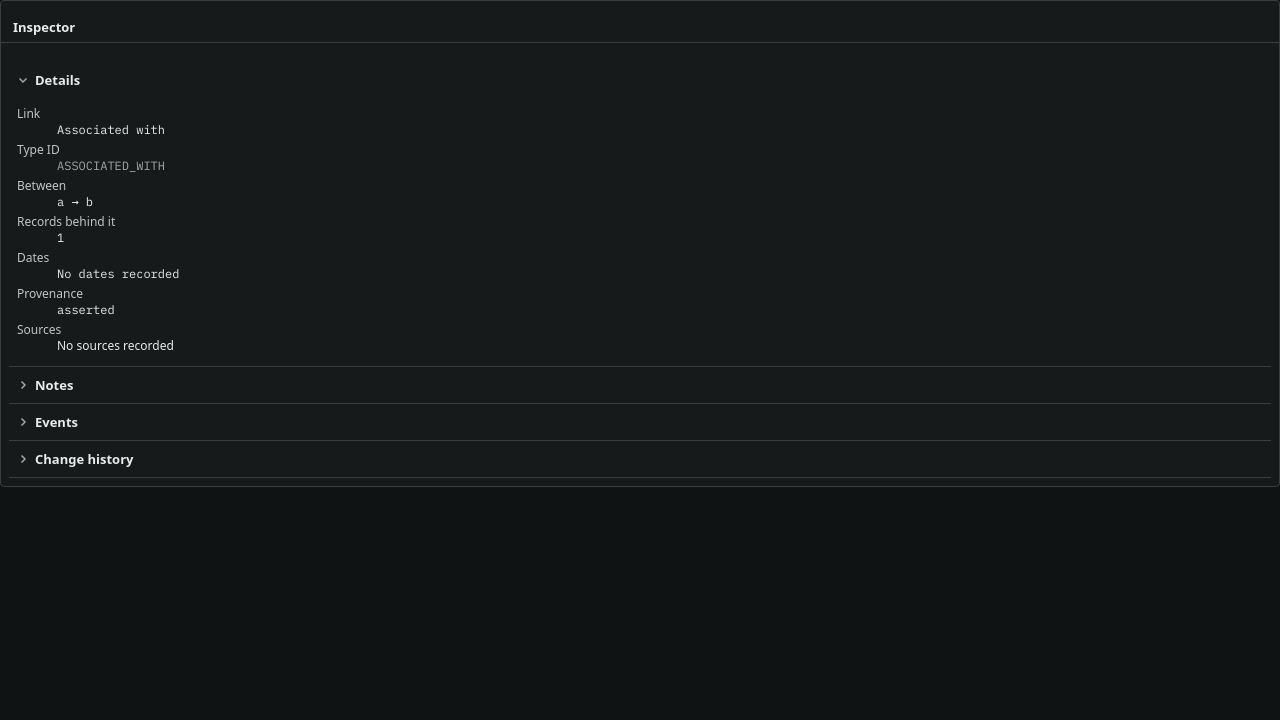
Inspector — a selected link › shows the link's details and a Notes section for that link
This screenshot has width=1280, height=720.
expect the text "ASSOCIATED_WITH" is shown: met, box x1=57 y1=158 x2=165 y2=173
Click the button "Notes". click: (54, 385)
box: x1=9 y1=367 x2=1271 y2=403
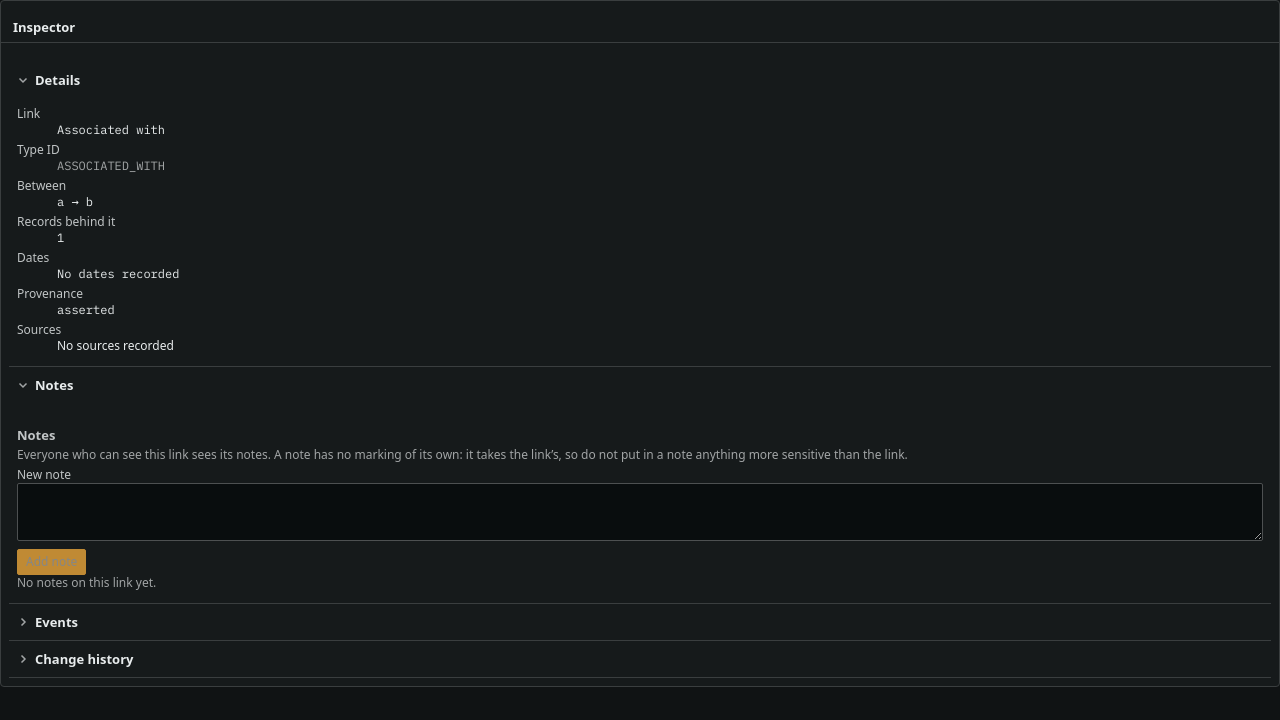
expect the element "Notes" is shown: met, box x1=17 y1=427 x2=1263 y2=591
expect the text "No notes on this link yet." is shown: met, box x1=17 y1=574 x2=156 y2=591
